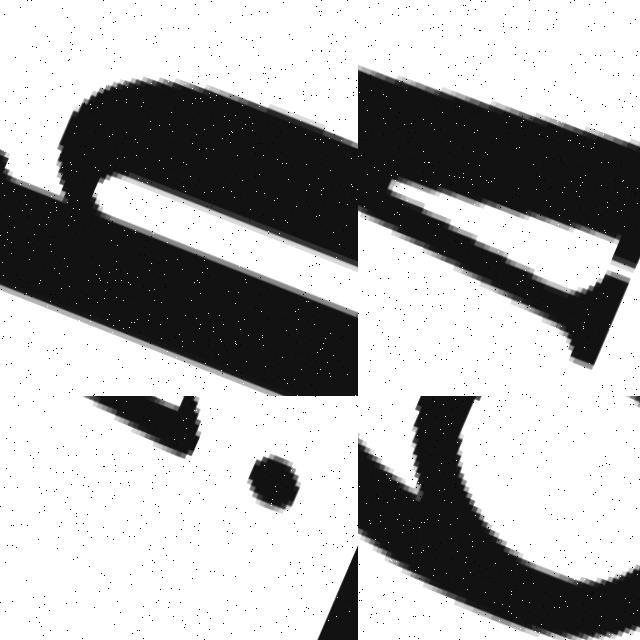9: (358, 396, 640, 640)
J: (0, 396, 358, 550)
Q: (0, 0, 358, 396)
V: (358, 0, 640, 396)
